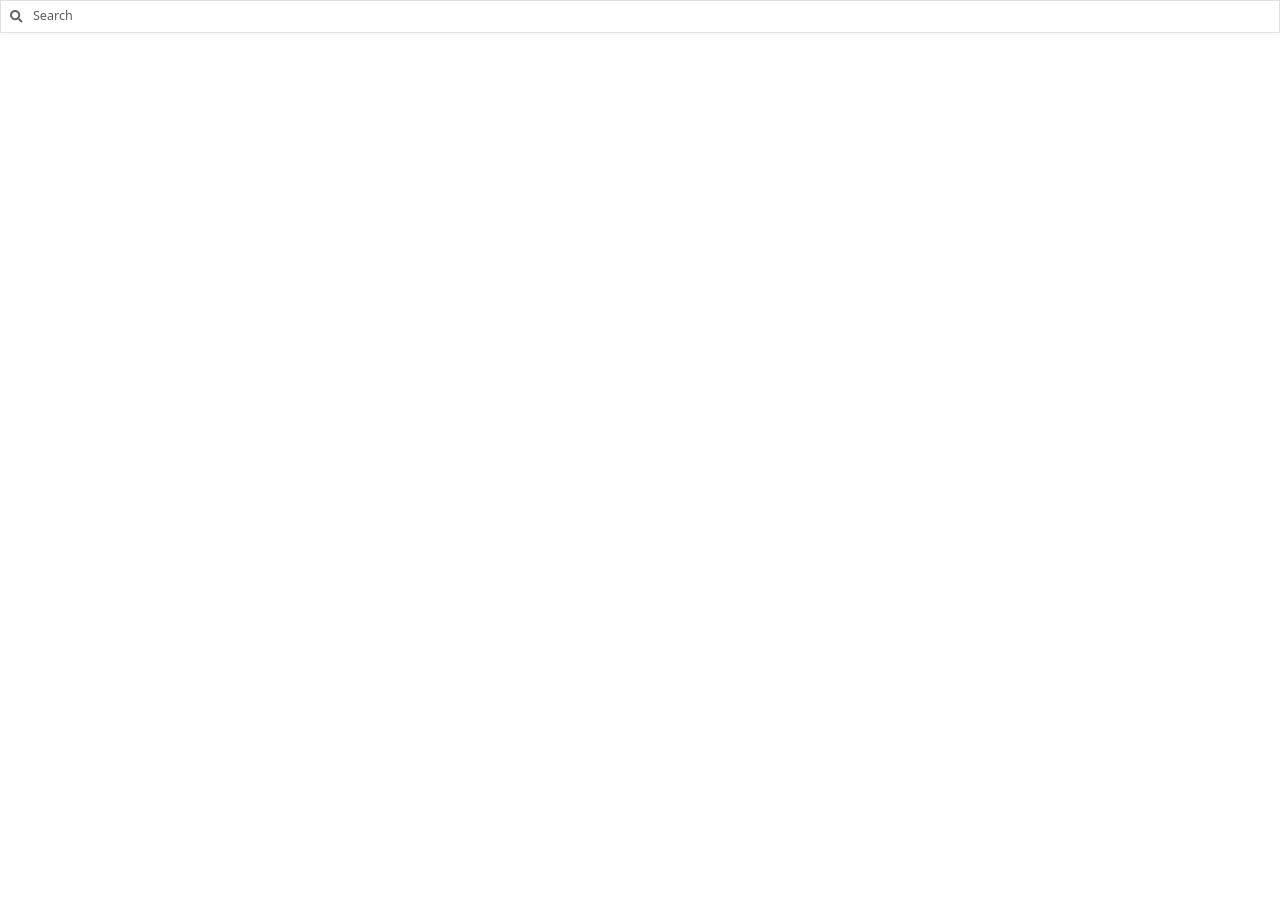
it: a late image batch cannot replace the next search's thumbnails
In the search field named "Search profiles, clubs, events, and sources": (655,16) [32,1,1279,32], type "rome"
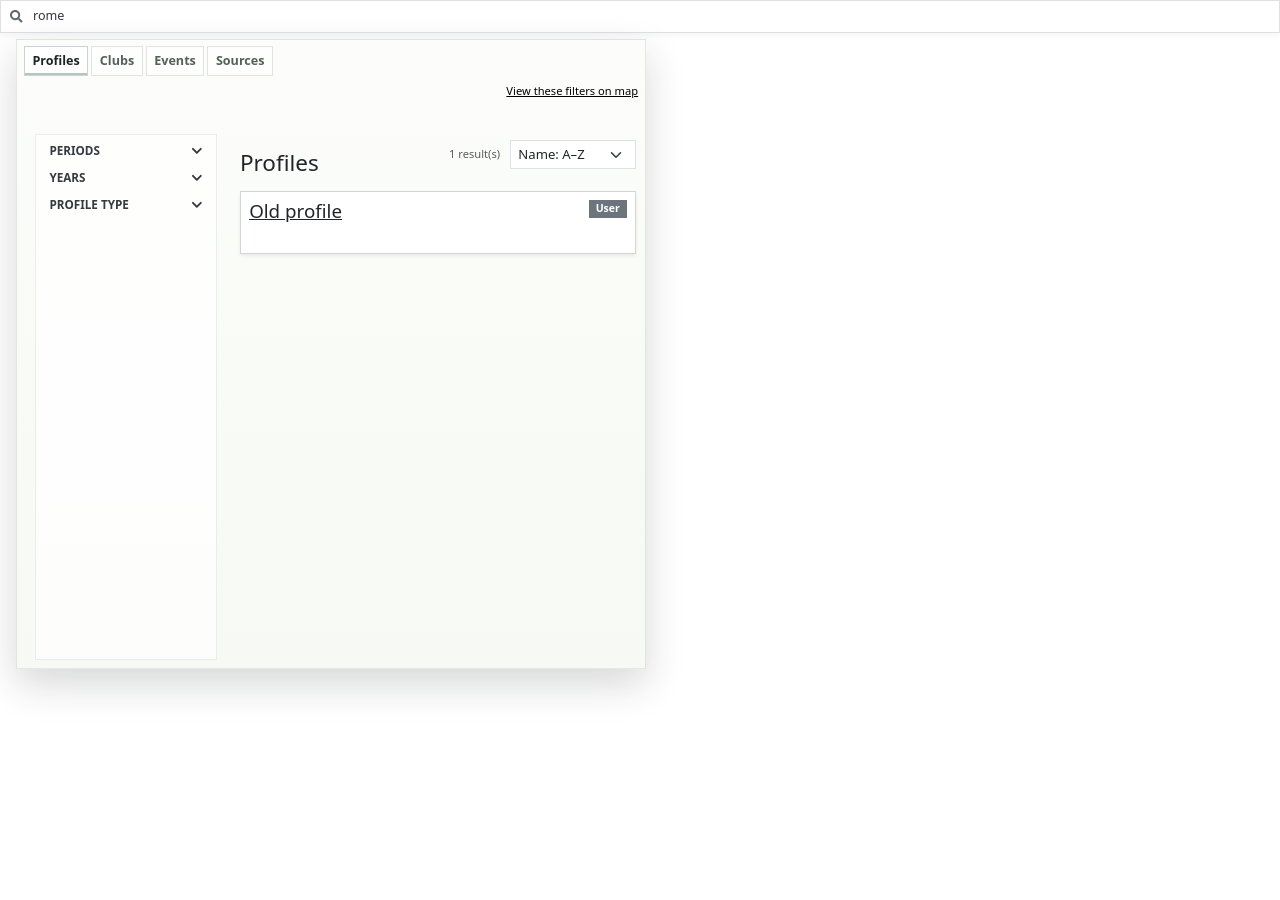
Expected: the link "Old profile" is shown, [249,198,342,223]
Replace the text in the search field named "Search profiles, clubs, events, and sources" with "athens": (655,16) [32,1,1279,32]
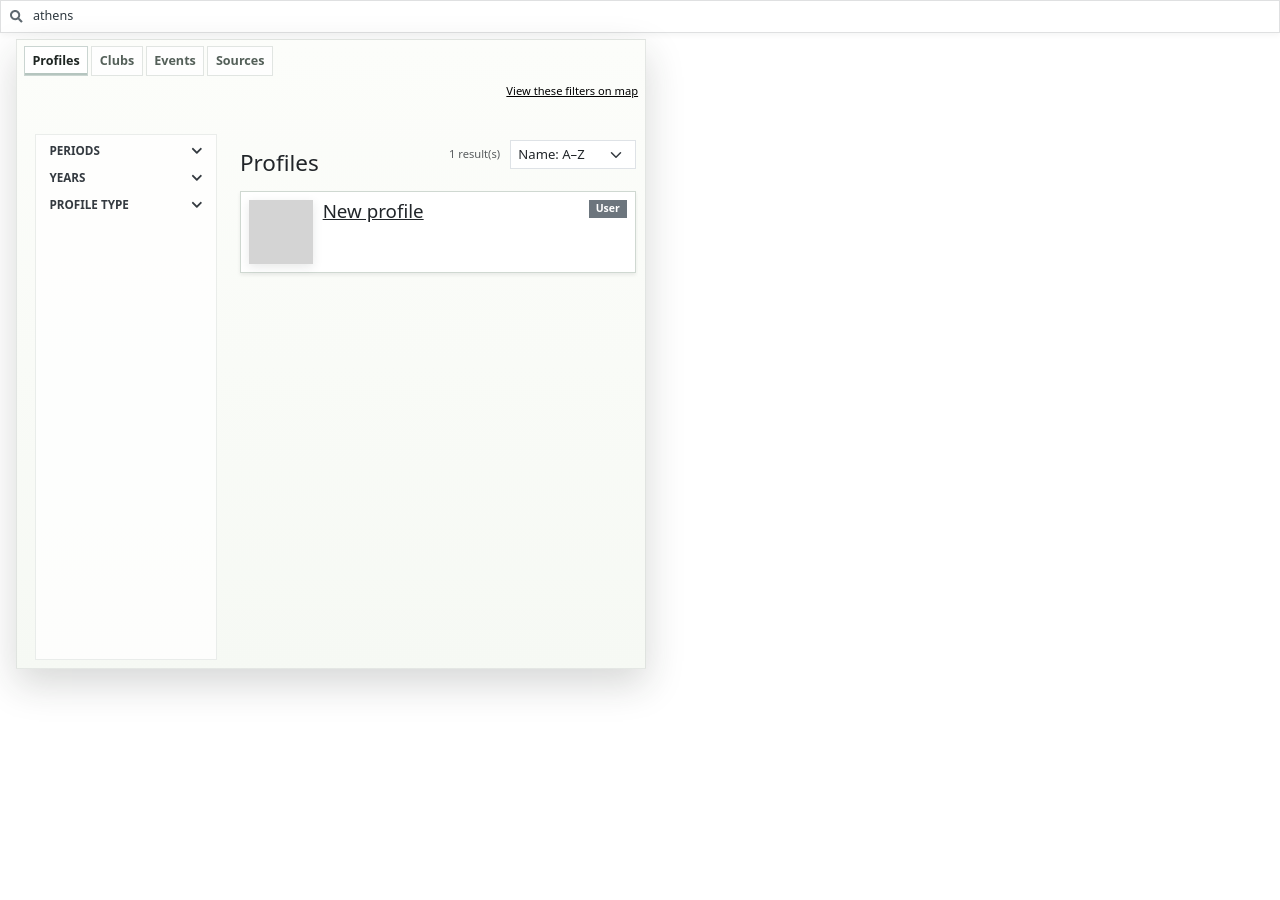
Expected: the link "New profile" is shown, [323,198,424,223]
